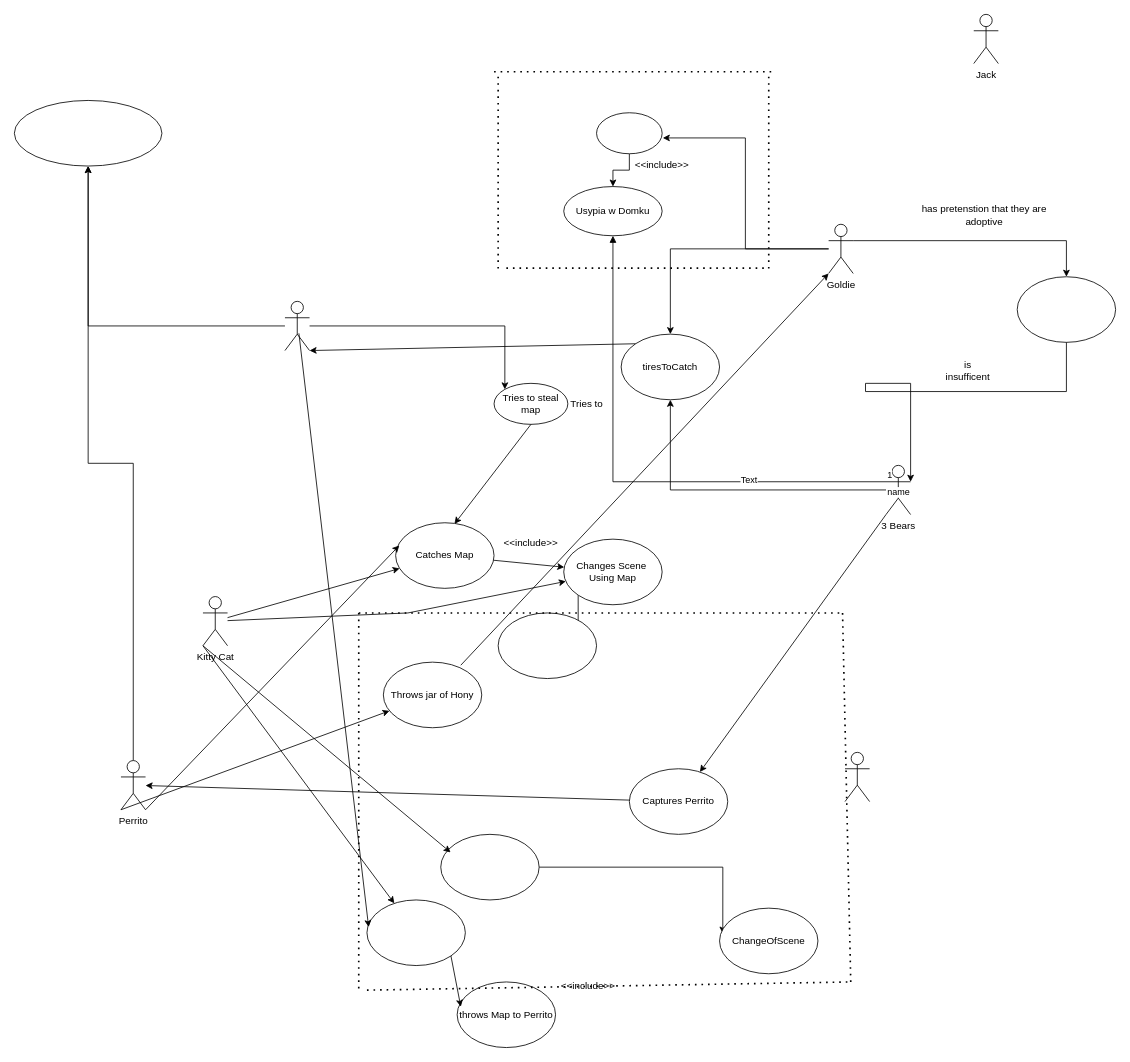
Image size: 1130x1062. Some labels were removed from this diagram. Here are the shapes that lost their labels. From the top down, the box of each, then its label:
(14, 100, 162, 166): TherapyJustBeforeScene
(596, 112, 662, 154): Iritates on 3 bears
(284, 301, 310, 351): Puss in Boots
(1016, 276, 1116, 342): wants family
(497, 612, 597, 679): Dances with puss and throws porrdge on Bears
(440, 834, 539, 900): Reads Map
(366, 899, 465, 966): Dances
